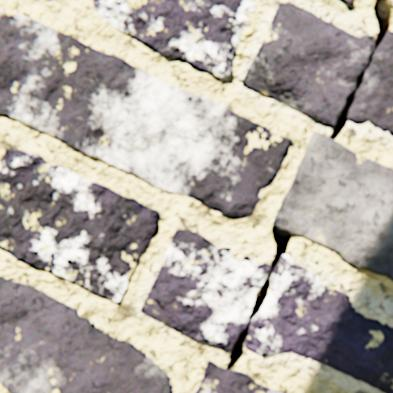brick: (0, 11, 292, 219), (0, 148, 160, 302), (0, 275, 173, 392), (273, 132, 392, 280), (93, 0, 255, 81), (195, 360, 286, 392), (381, 0, 392, 7), (340, 0, 353, 5)
broken_brick: (141, 229, 392, 392), (242, 4, 392, 137)
crack: (329, 72, 364, 140), (372, 0, 392, 51), (249, 275, 270, 320), (226, 328, 248, 369), (270, 227, 290, 272)
